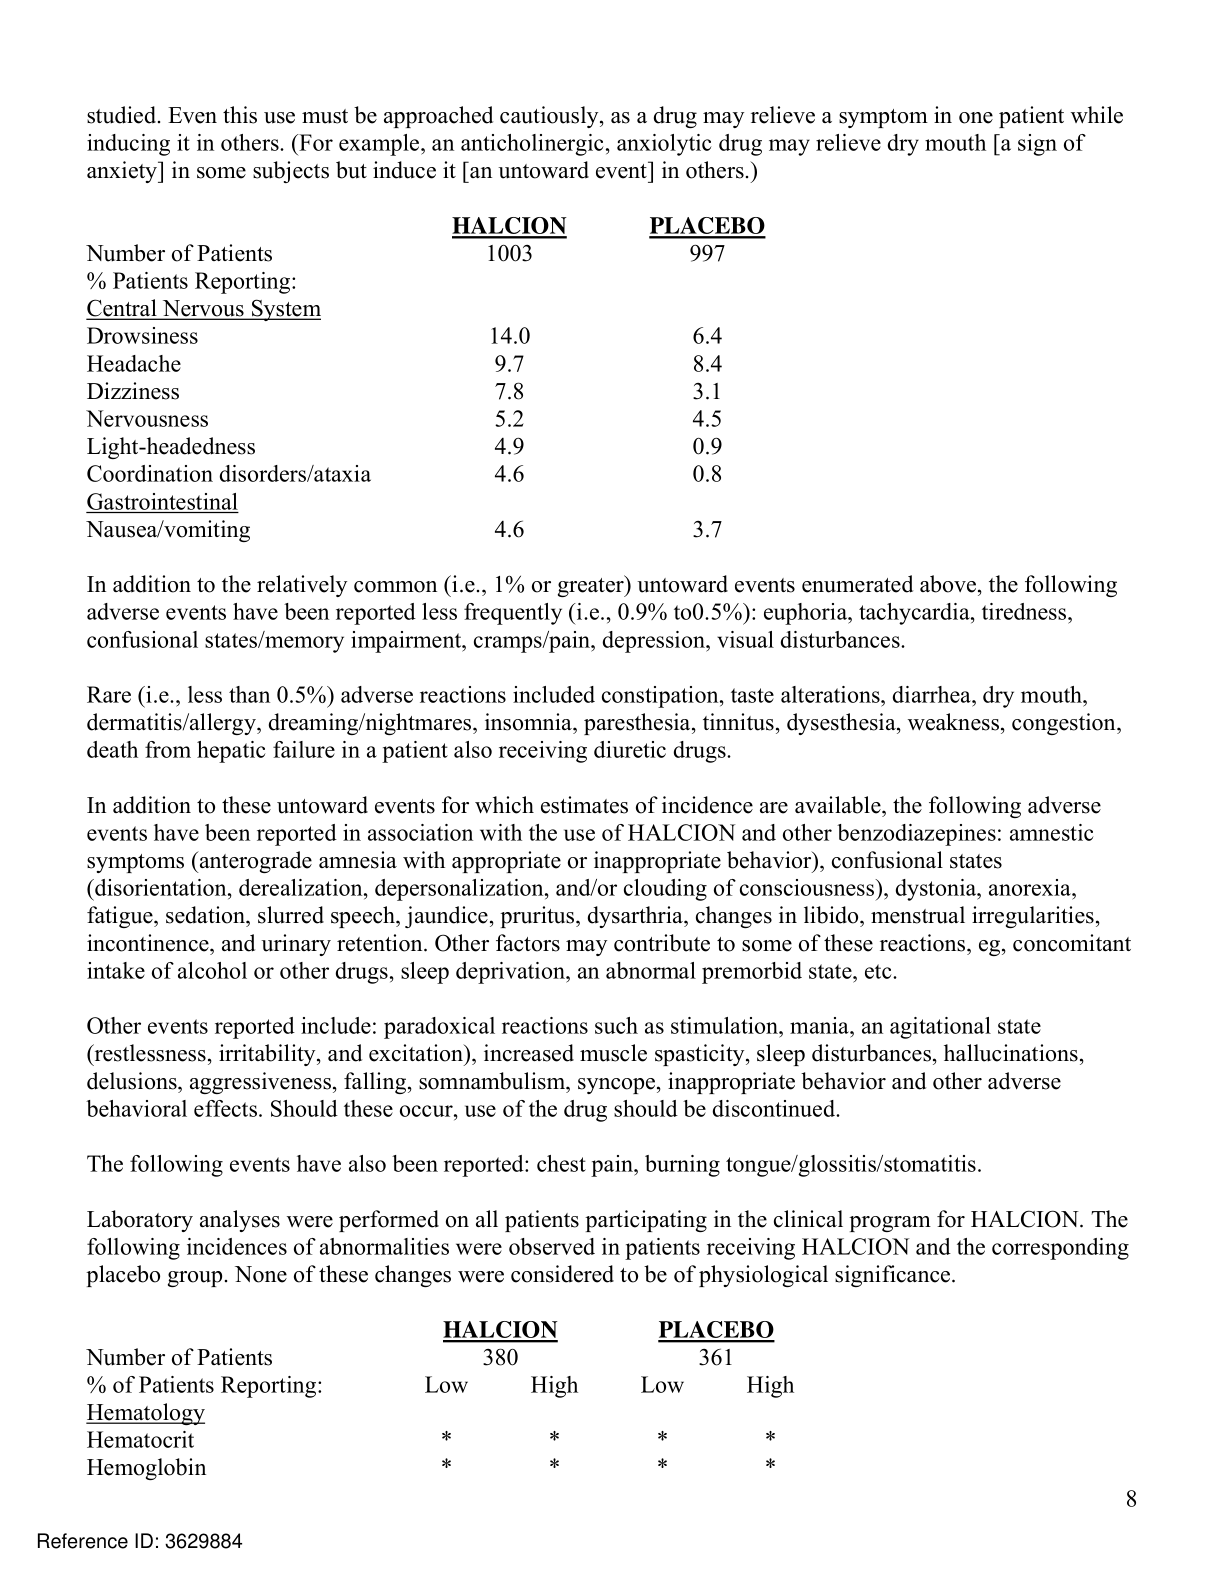nolines: (85, 213, 768, 543), (85, 1319, 797, 1482)
